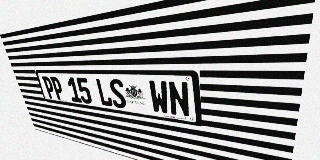1: (66, 77, 82, 103)
5: (76, 78, 93, 104)
L: (95, 78, 113, 107)
N: (167, 81, 190, 118)
P: (42, 76, 57, 99), (50, 77, 65, 100)
S: (108, 79, 127, 109)
W: (148, 80, 170, 115)
